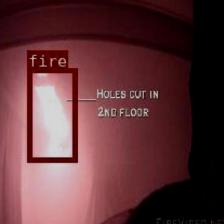fire: (27, 67, 76, 161)
